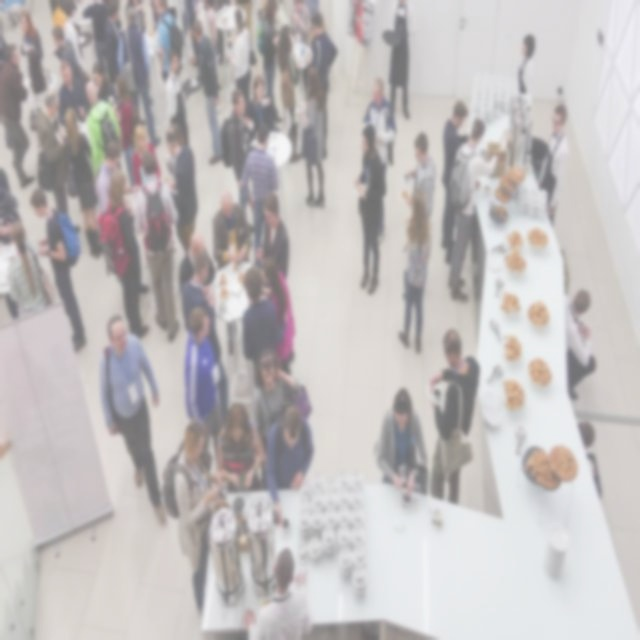pessoa: (98, 313, 170, 528), (28, 185, 88, 356), (447, 116, 499, 307), (426, 326, 480, 506), (132, 147, 180, 346), (174, 418, 222, 610), (181, 248, 229, 427), (105, 168, 150, 342), (251, 346, 301, 491), (244, 545, 314, 639), (62, 106, 104, 262), (401, 128, 437, 307), (117, 5, 162, 148), (374, 386, 431, 498), (265, 404, 316, 527), (397, 185, 433, 356), (362, 76, 398, 247), (352, 121, 387, 295), (241, 121, 280, 271), (550, 284, 596, 403), (260, 254, 296, 406), (440, 97, 472, 267), (0, 41, 36, 188), (190, 16, 224, 168), (8, 217, 58, 319), (184, 306, 224, 430), (241, 264, 280, 391), (165, 126, 199, 262), (294, 66, 326, 210), (380, 0, 418, 120), (310, 10, 340, 162), (216, 400, 264, 492), (36, 86, 69, 218), (536, 102, 570, 230), (85, 77, 124, 183), (227, 88, 255, 234), (163, 122, 193, 258), (18, 8, 54, 112), (256, 191, 290, 301), (277, 23, 302, 165), (212, 190, 254, 274), (96, 138, 140, 218), (195, 0, 225, 115), (256, 0, 283, 127), (112, 74, 140, 188), (224, 7, 252, 120), (164, 48, 190, 152), (516, 32, 538, 154), (49, 24, 88, 91), (82, 0, 113, 82), (178, 230, 216, 294), (56, 58, 90, 128), (246, 74, 279, 146), (310, 10, 330, 128), (289, 0, 311, 100), (155, 0, 179, 86), (132, 122, 162, 188), (0, 163, 21, 246), (103, 0, 123, 86), (92, 60, 120, 111), (232, 5, 252, 70), (214, 0, 233, 67), (184, 0, 201, 66), (578, 412, 596, 454), (126, 0, 148, 34), (167, 0, 184, 24), (50, 0, 66, 23), (149, 0, 160, 32), (0, 15, 6, 70), (256, 0, 268, 22), (2, 126, 12, 150)
